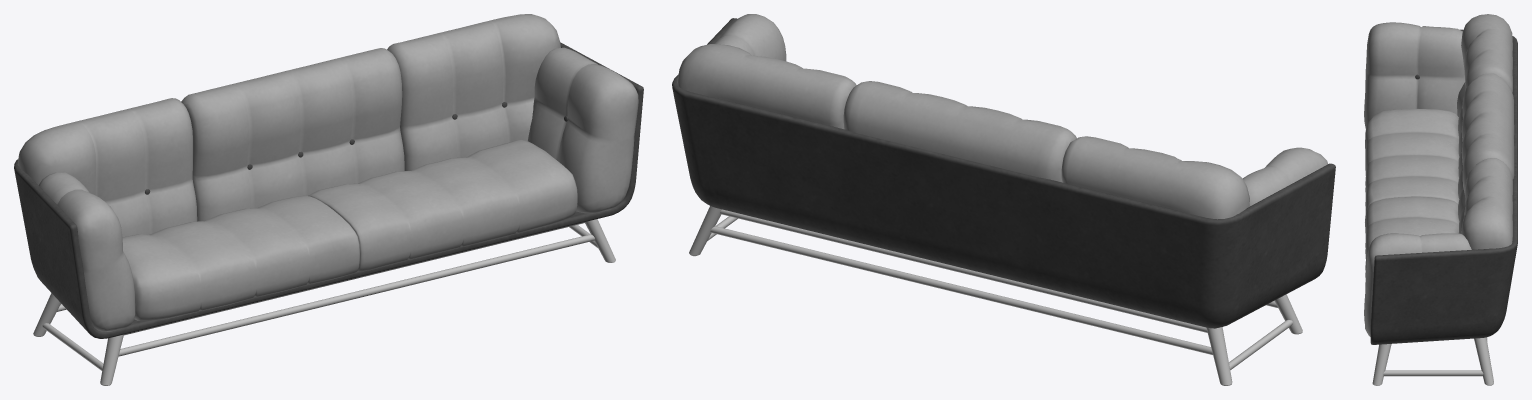
File: sofa.glb
3 views of the same model, side by side, from view 1: azimuth 30°, elevation 25°; view 2: azimuth 150°, elevation 25°; view 3: azimuth 270°, elevation 25° (orthographic). The views are drawn at different scales.
Parts seen in each view (by area): view 1: sofa_43; view 2: sofa_43; view 3: sofa_43.
Boxes of the visible parts, <box> form: sofa_43: <box>14,14,643,385</box>; sofa_43: <box>672,14,1335,385</box>; sofa_43: <box>1364,14,1517,385</box>.
Bounding box in the file's own units: 2.92 × 0.982 × 0.8127.
1 material, 1 textured.
